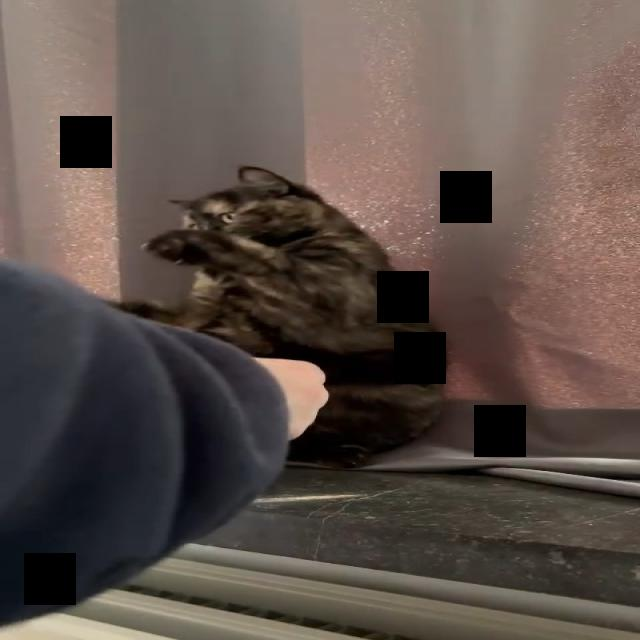authorized: (107, 164, 449, 468)
